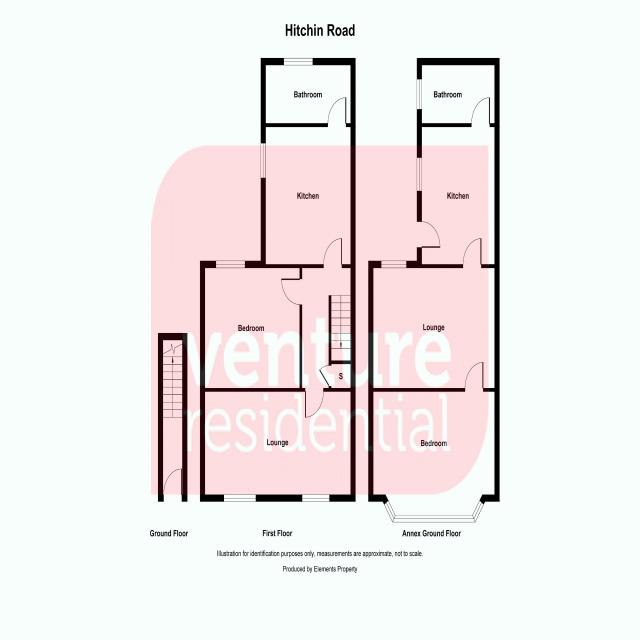DOOR: (463, 356, 487, 392), (320, 235, 345, 268), (162, 465, 183, 502), (417, 218, 441, 250), (279, 275, 303, 307), (326, 94, 348, 127), (461, 234, 482, 268), (470, 94, 491, 127), (304, 388, 325, 420)
ROOM: (369, 355, 500, 522), (261, 91, 355, 268), (416, 93, 500, 268), (200, 261, 302, 392)
WINDOW: (382, 497, 485, 524), (414, 154, 425, 197), (222, 492, 257, 504), (214, 258, 248, 270), (259, 140, 268, 180), (379, 259, 408, 271), (283, 56, 314, 67), (301, 493, 330, 503), (416, 77, 423, 110)
